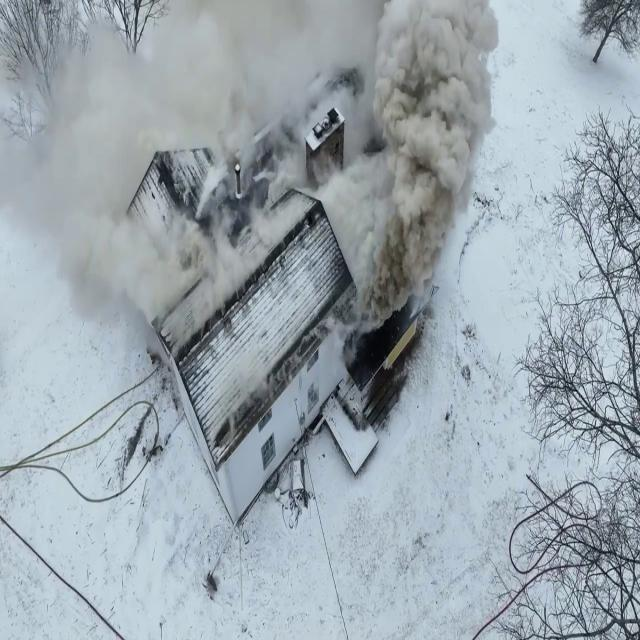Smoke: (340, 0, 504, 411)
